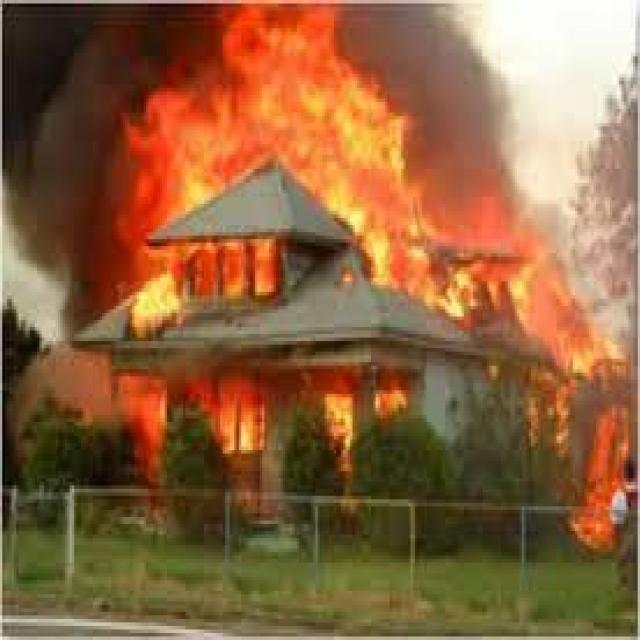Fire: (221, 12, 411, 218), (368, 204, 561, 321), (137, 104, 215, 199), (132, 271, 184, 339)
Smoke: (4, 3, 128, 309), (358, 5, 545, 194), (116, 0, 221, 122)
